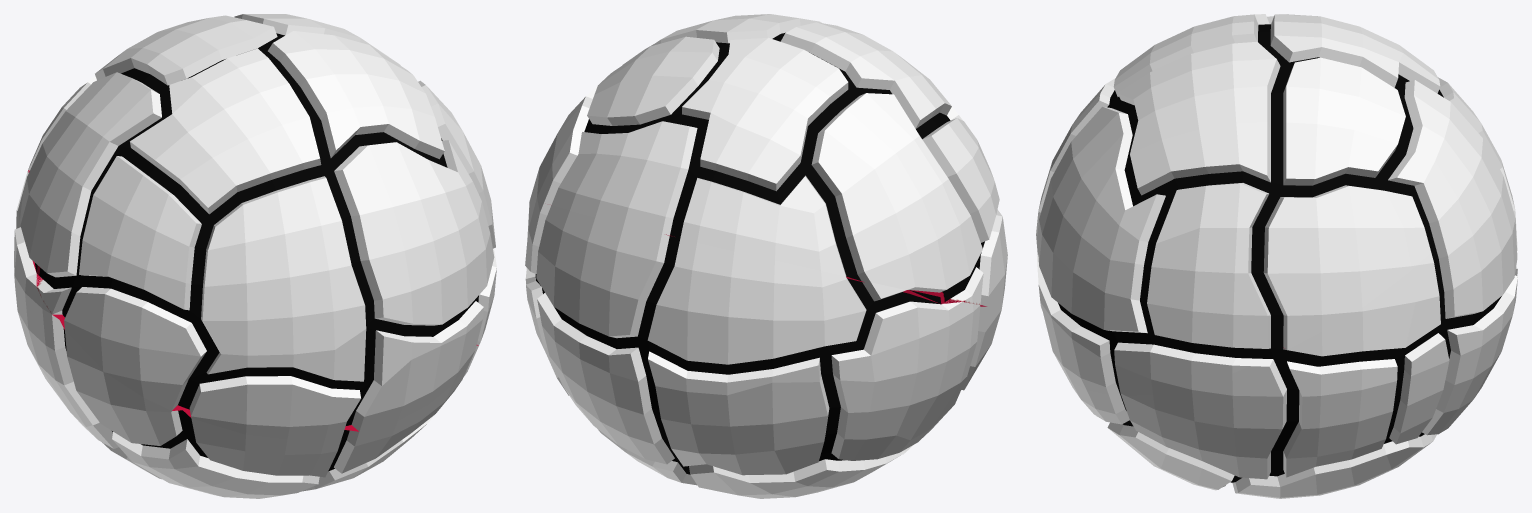
File: Rock.fbx
3 renders of one model, left to right at view 1: azimuth 30°, elevation 25°; view 2: azimuth 150°, elevation 25°; view 3: azimuth 270°, elevation 25°, orthographic.
Parts seen in each view (by area): view 1: Roundcube.002; view 2: Roundcube.002; view 3: Roundcube.002.
Part boxes in pixels (box(x1,y1,x2,y2)): Roundcube.002: box(14, 14, 496, 498); Roundcube.002: box(525, 14, 1007, 498); Roundcube.002: box(1036, 14, 1517, 498).
Bounding box in the file's own units: 2.08 × 2.08 × 2.07.
